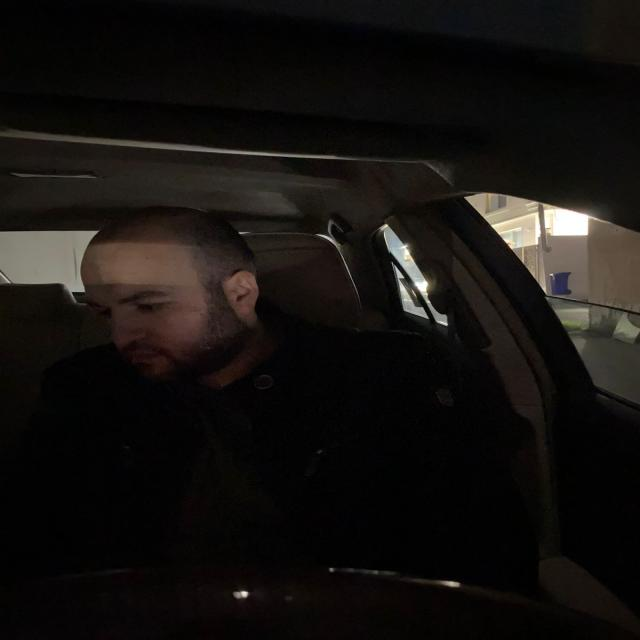person: (68, 213, 276, 387)
